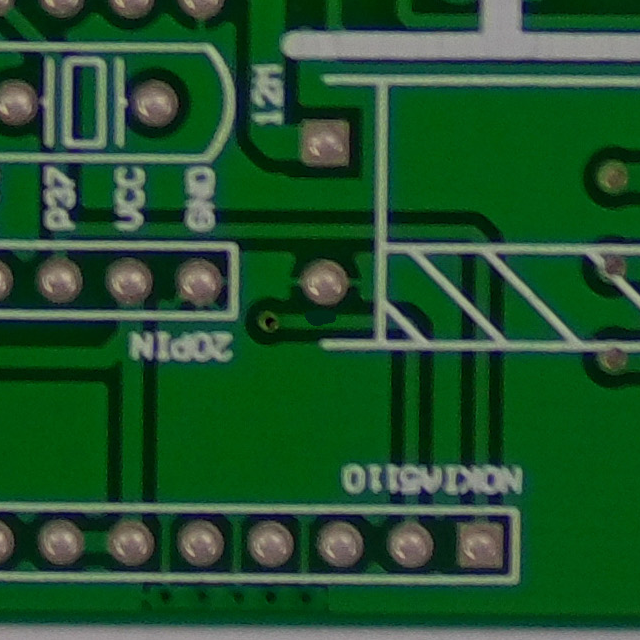mouse_bite: (285, 293, 356, 348)
